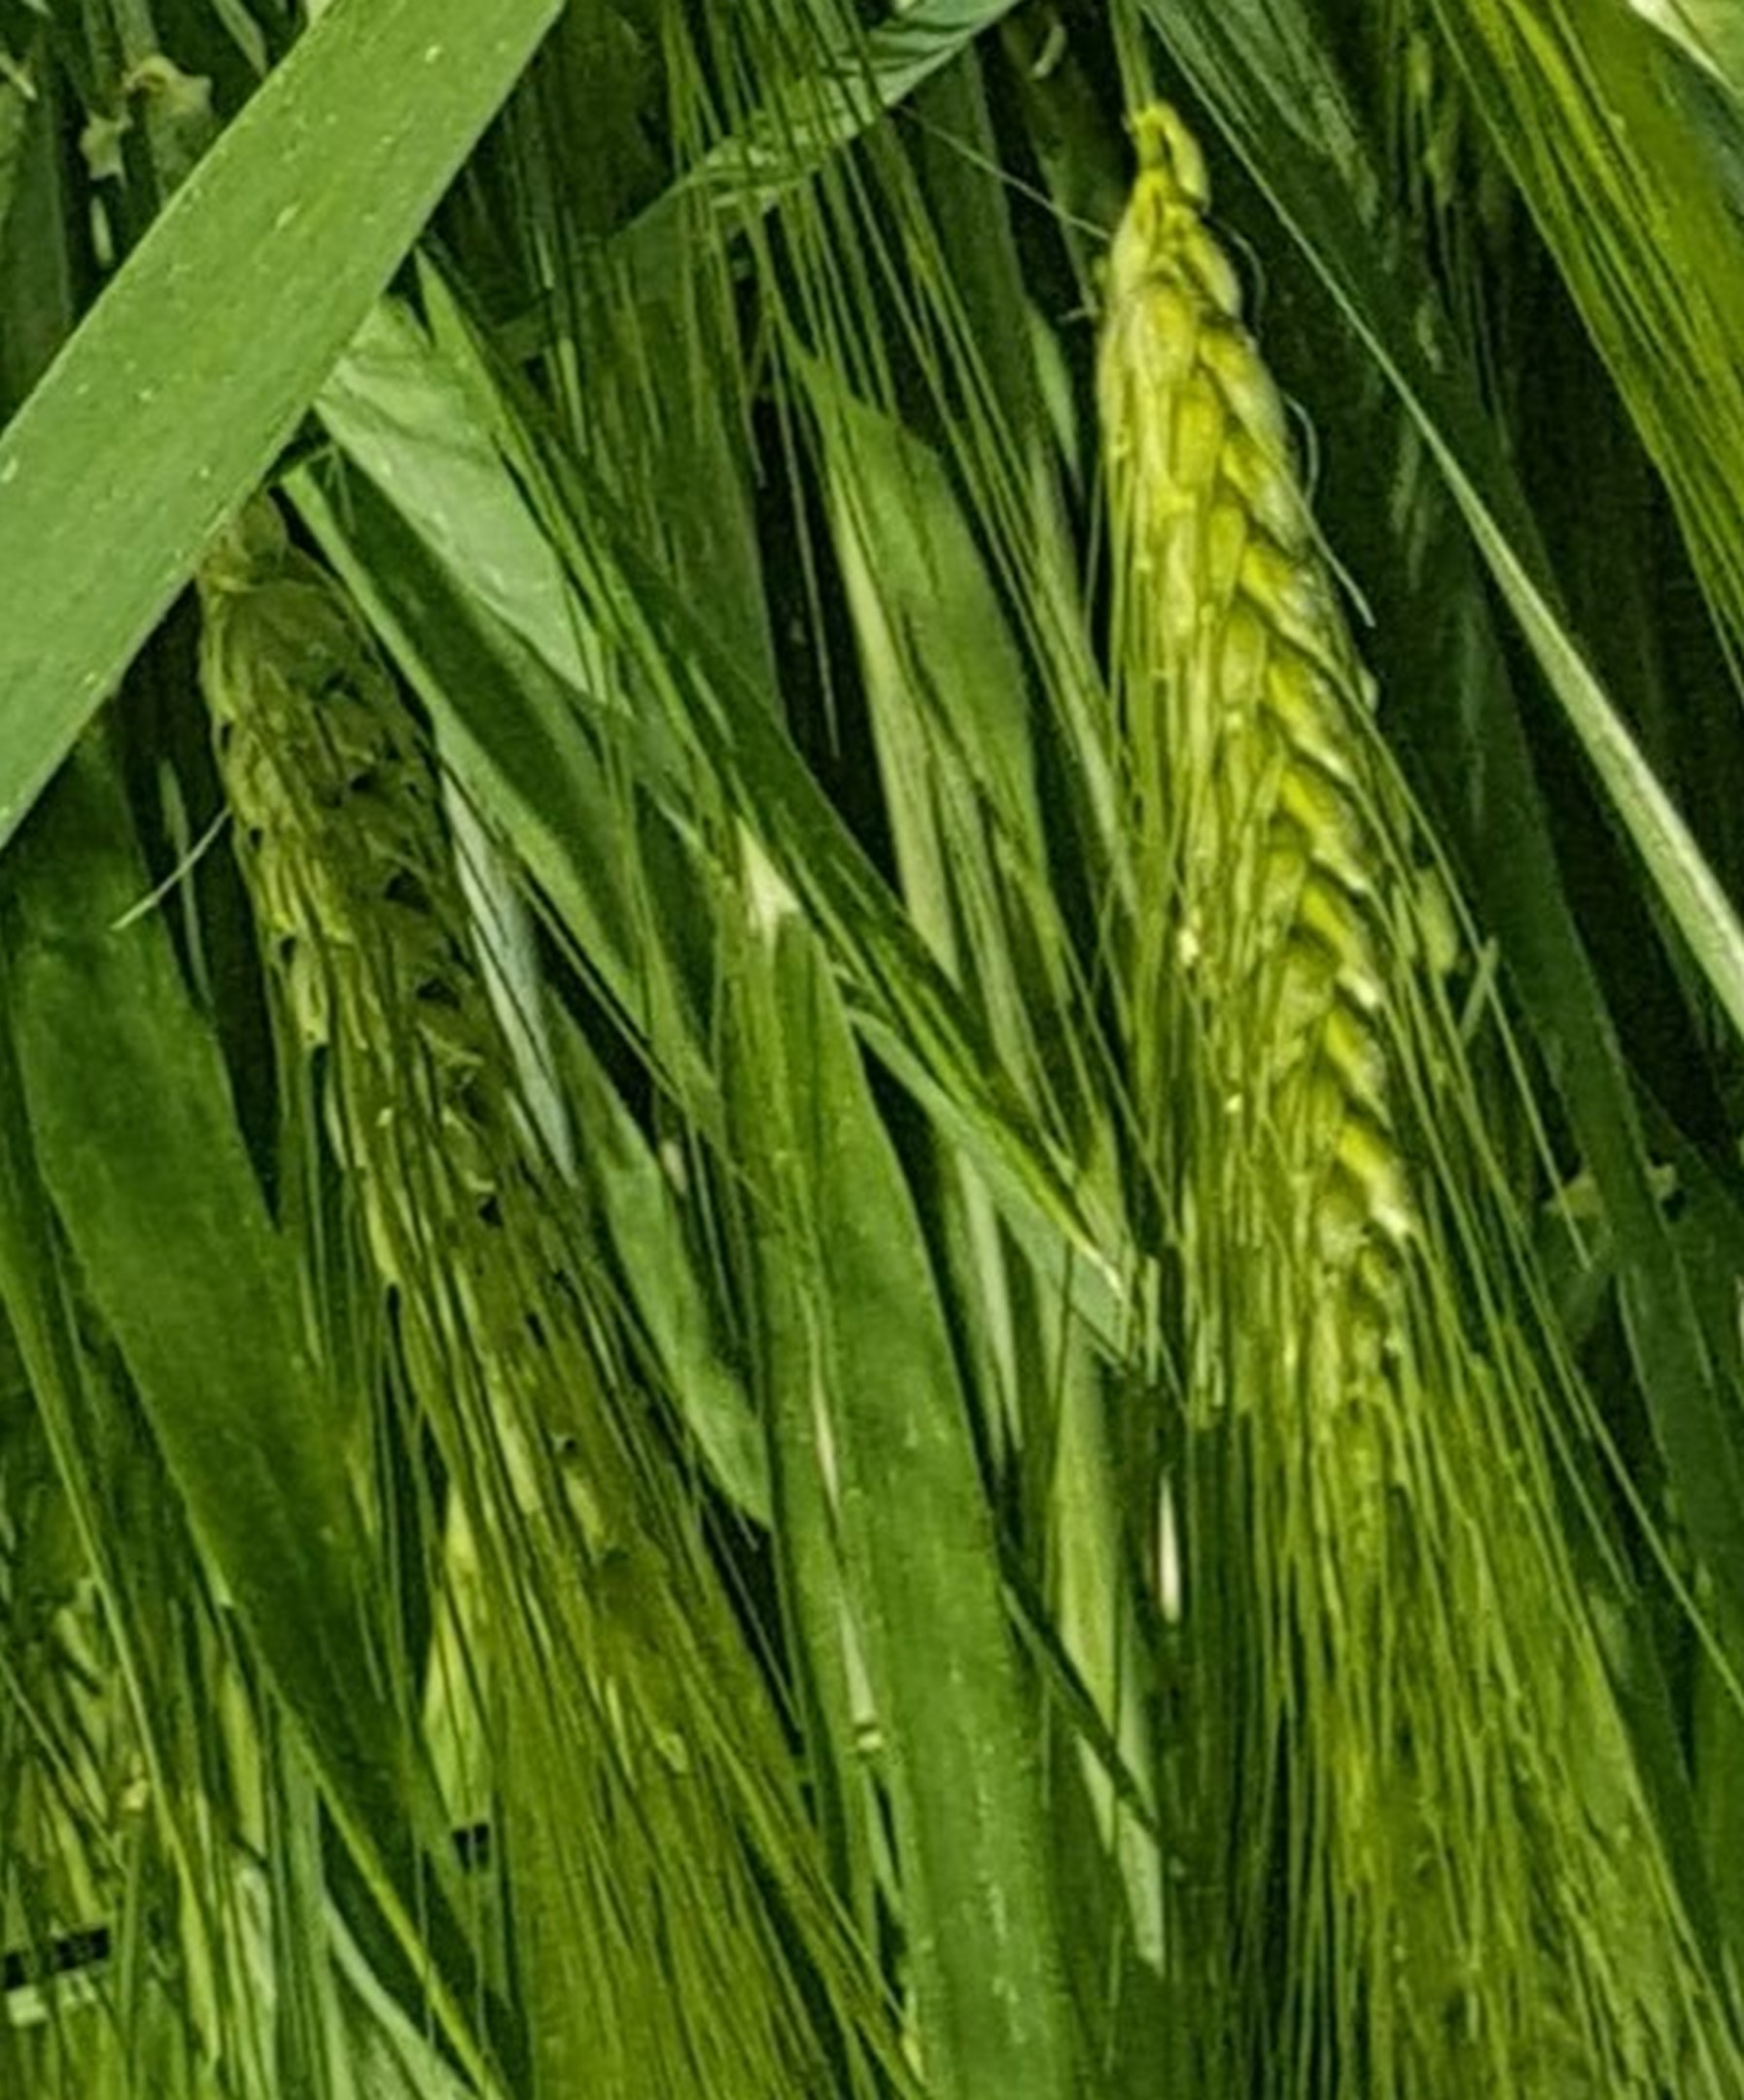Healthy Wheat: (1073, 167, 1552, 1509)
